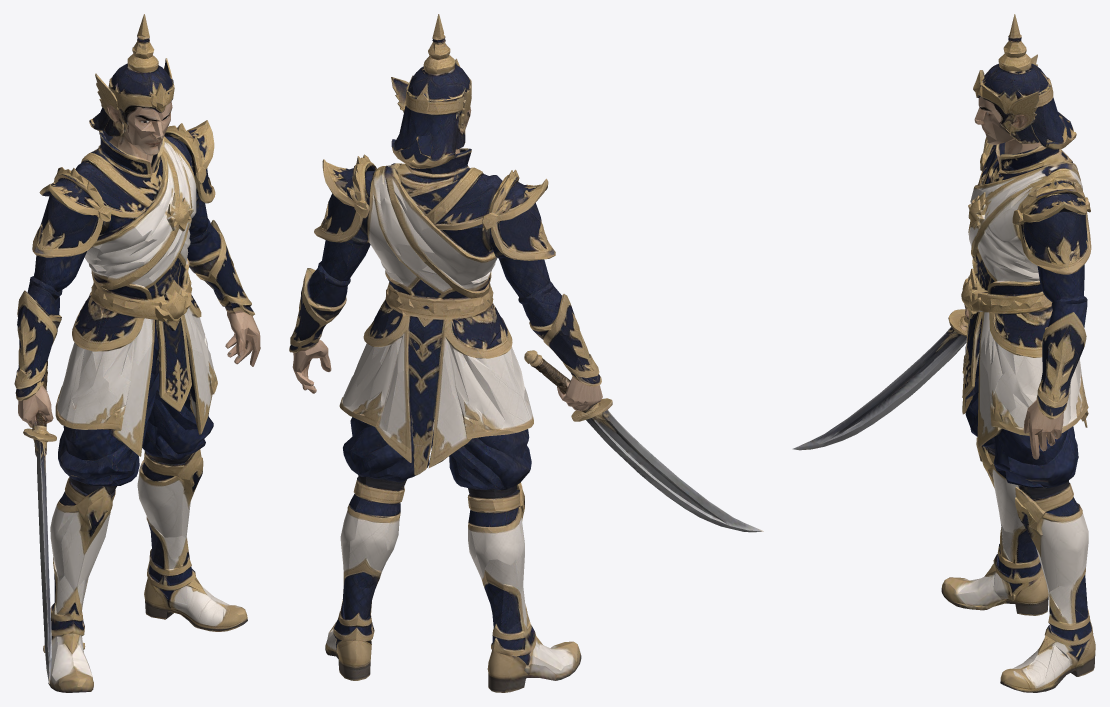
Rendered from fallen_city_3.glb.
3 views of the same model, side by side, from view 1: azimuth 30°, elevation 25°; view 2: azimuth 150°, elevation 25°; view 3: azimuth 270°, elevation 25° (orthographic). The views are drawn at different scales.
Size of the model in its own units: 1.05 by 1.9 by 0.8281.
1 material, 1 textured.
